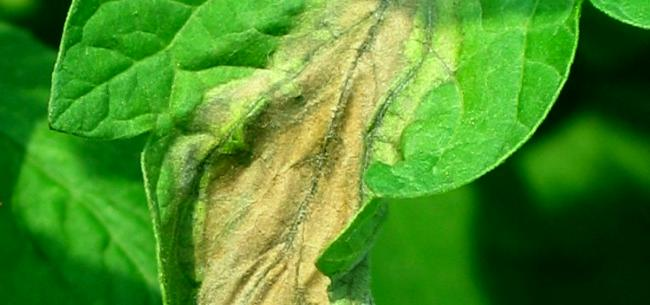Tomato leaf late blight: (20, 4, 585, 302)
